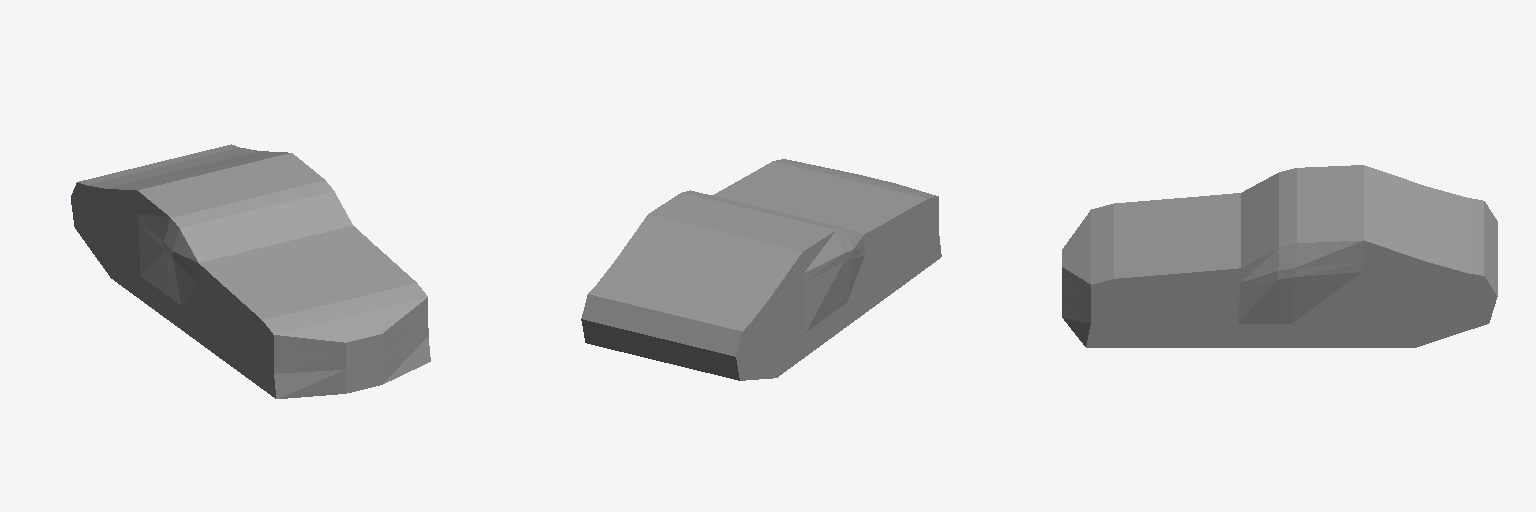
The model's file is sls_amg_hull.obj.
The picture shows the model from 3 angles: view 1: azimuth 30°, elevation 25°; view 2: azimuth 150°, elevation 25°; view 3: azimuth 270°, elevation 25°; orthographic projection.
Parts seen in each view (by area): view 1: Cube_Cube.006; view 2: Cube_Cube.006; view 3: Cube_Cube.006.
Boxes of the visible parts, box(x1,y1,x2,y2) form: Cube_Cube.006: box(71, 144, 430, 398); Cube_Cube.006: box(581, 159, 941, 380); Cube_Cube.006: box(1062, 165, 1497, 347).
Bounding box in the file's own units: 6.91 × 4.2 × 15.44.